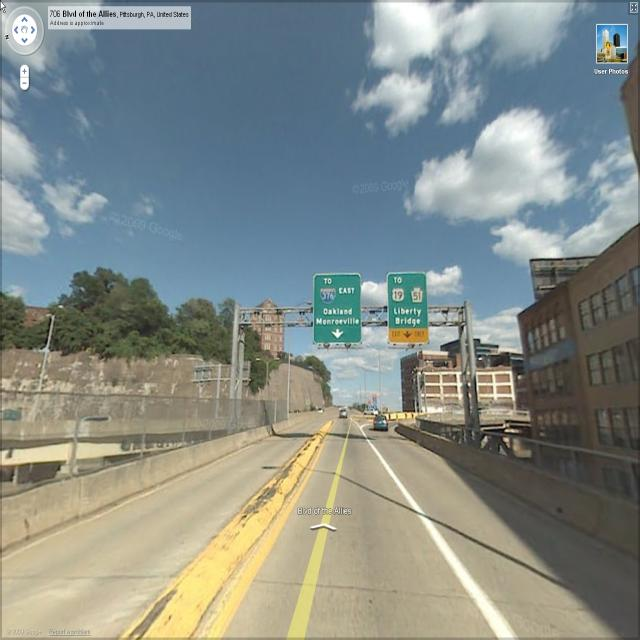b_1: (523, 288, 595, 466), (578, 252, 640, 449)
